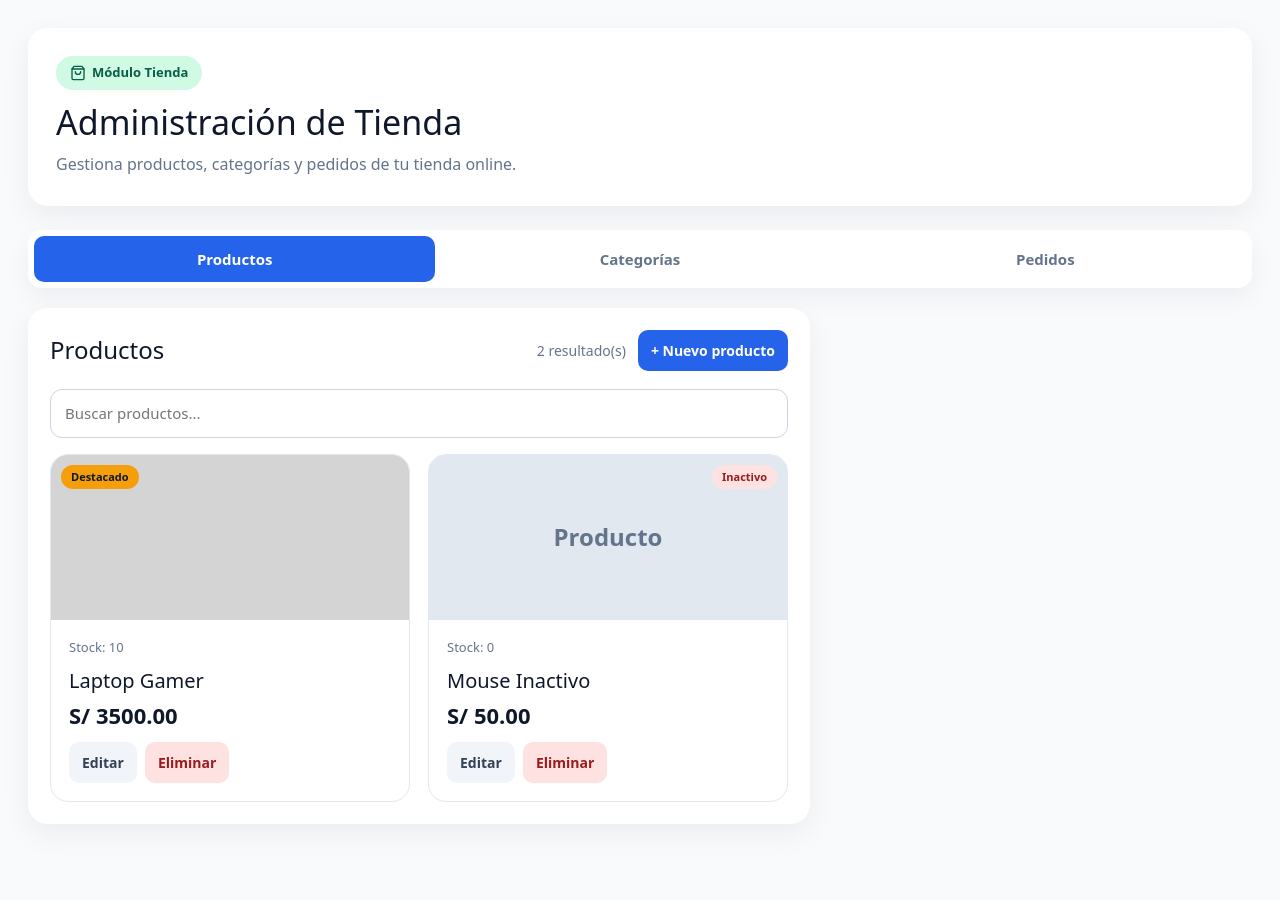
Tienda page › deletes product when confirmed
This screenshot has width=1280, height=900.
expect the heading "Laptop Gamer" is shown: met, box left=69, top=667, right=204, bottom=694
Click the button "Eliminar" below "S/ 3500.00" at (187, 763), box left=145, top=742, right=229, bottom=783
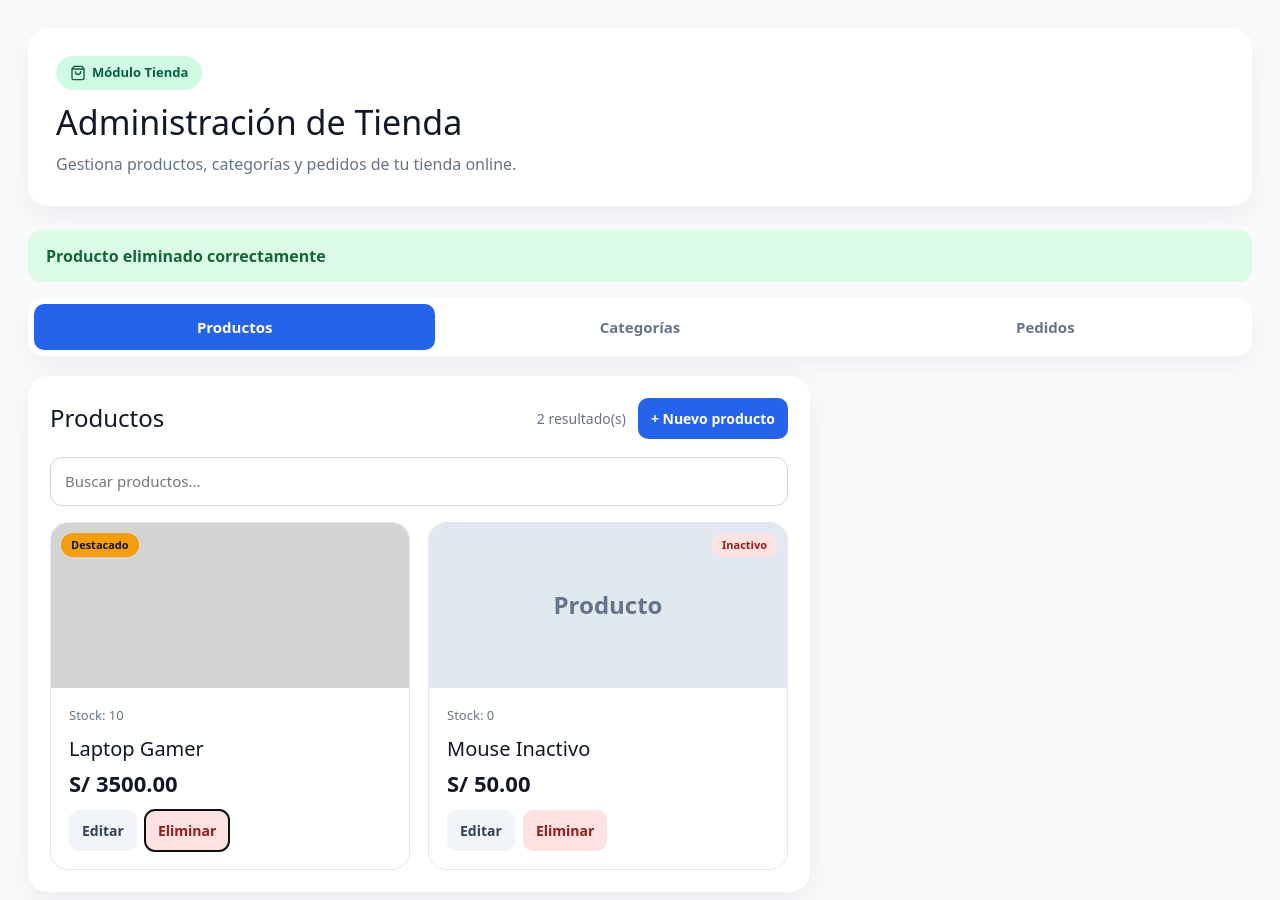
expect the text "Producto eliminado correctamente" is shown: met, box left=28, top=230, right=1252, bottom=282
